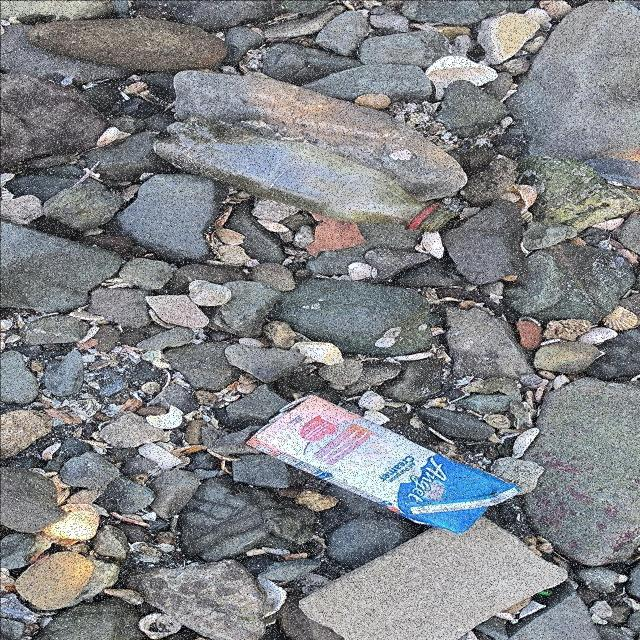cardboard_waste: (245, 394, 523, 536)
plastic_waste: (160, 116, 473, 244)
